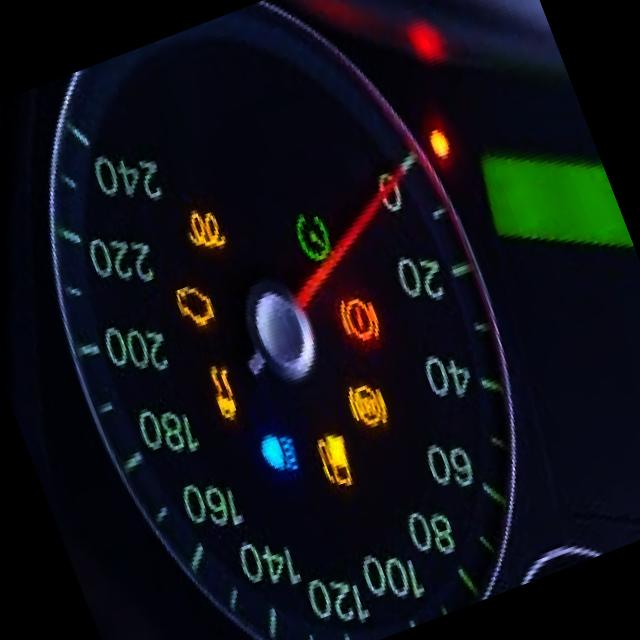kontrolka: (328, 280, 393, 358), (338, 370, 402, 446), (308, 421, 365, 499), (176, 194, 236, 268), (249, 417, 309, 491), (165, 268, 224, 342), (195, 350, 248, 428)
